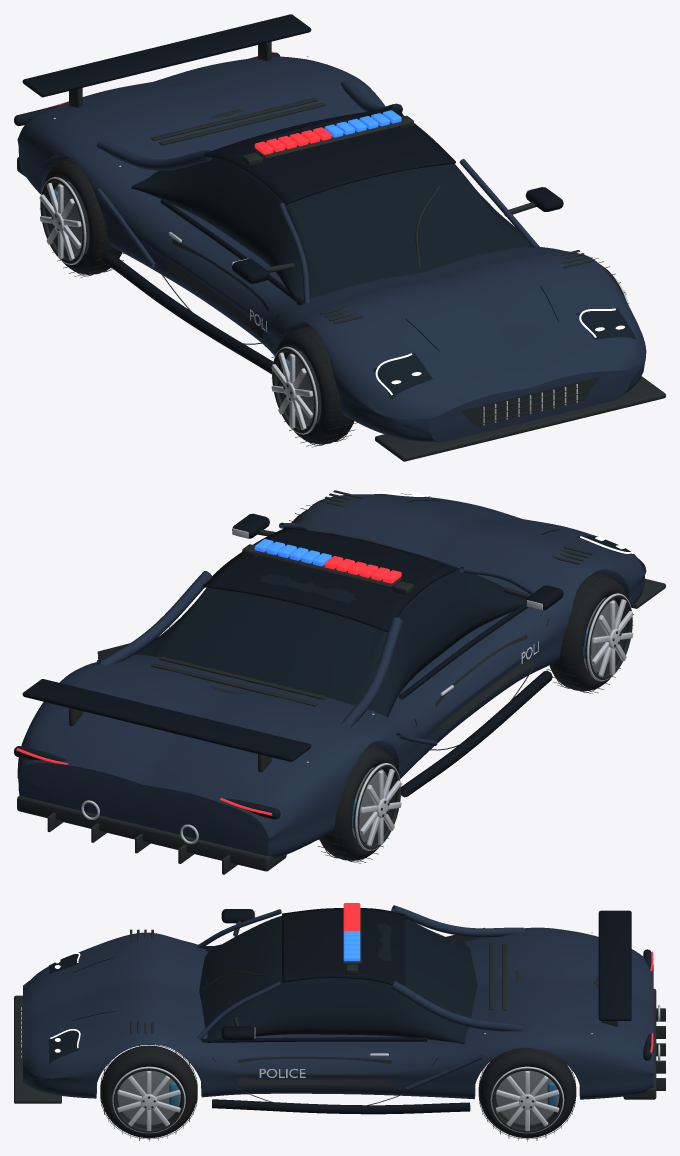
The model's file is florida-interceptor-reflective.glb.
3 views of the same model, one above another, from view 1: azimuth 30°, elevation 25°; view 2: azimuth 150°, elevation 25°; view 3: azimuth 270°, elevation 25° (orthographic). The views are drawn at different scales.
Visible parts, largest first — view 1: BodyLean__Midnight_blue_metallic_lacquer, BodyLean__Deep_blue_automotive_glass, BodyLean__Obsidian_metallic_paint, BodyLean__Carbon_satin, Wheel_FR__Tire_rubber, Wheel_RR__Tire_rubber, Wheel_FR__Polished_forged_aluminium, Wheel_RR__Polished_forged_aluminium, Wheel_FR__Carbon_satin, Wheel_RR__Carbon_satin, BodyLean__Police_red_optical_lens, BodyLean__Police_blue_optical_lens (+2 smaller); view 2: BodyLean__Midnight_blue_metallic_lacquer, BodyLean__Deep_blue_automotive_glass, BodyLean__Obsidian_metallic_paint, BodyLean__Carbon_satin, Wheel_FR__Tire_rubber, Wheel_RR__Tire_rubber, Wheel_FR__Polished_forged_aluminium, Wheel_RR__Polished_forged_aluminium, BodyLean__Police_red_optical_lens, Wheel_FR__Carbon_satin, Wheel_RR__Carbon_satin, BodyLean__Police_blue_optical_lens (+3 smaller); view 3: BodyLean__Midnight_blue_metallic_lacquer, BodyLean__Deep_blue_automotive_glass, BodyLean__Obsidian_metallic_paint, BodyLean__Carbon_satin, Wheel_FL__Tire_rubber, Wheel_RL__Tire_rubber, Wheel_FL__Polished_forged_aluminium, Wheel_RL__Polished_forged_aluminium, Wheel_FL__Brake_steel, Wheel_RL__Brake_steel, Wheel_FL__Carbon_satin, Wheel_RL__Carbon_satin (+2 smaller).
Part boxes in pixels (box(x1,y1,x2,y2)): BodyLean__Midnight_blue_metallic_lacquer: box(17, 56, 646, 442); BodyLean__Deep_blue_automotive_glass: box(14, 52, 636, 399); BodyLean__Obsidian_metallic_paint: box(22, 14, 563, 374); BodyLean__Carbon_satin: box(17, 41, 665, 461); Wheel_FR__Tire_rubber: box(275, 325, 354, 445); Wheel_RR__Tire_rubber: box(43, 158, 122, 276); Wheel_FR__Polished_forged_aluminium: box(271, 346, 317, 434); Wheel_RR__Polished_forged_aluminium: box(40, 177, 86, 264); Wheel_FR__Carbon_satin: box(270, 326, 357, 447); Wheel_RR__Carbon_satin: box(39, 158, 123, 277); BodyLean__Police_red_optical_lens: box(16, 51, 331, 154); BodyLean__Police_blue_optical_lens: box(324, 110, 401, 137); BodyLean__Midnight_blue_metallic_lacquer: box(17, 494, 646, 857); BodyLean__Deep_blue_automotive_glass: box(14, 493, 635, 819); BodyLean__Obsidian_metallic_paint: box(22, 500, 563, 797); BodyLean__Carbon_satin: box(17, 490, 665, 874); Wheel_FR__Tire_rubber: box(549, 572, 629, 692); Wheel_RR__Tire_rubber: box(319, 744, 397, 862); Wheel_FR__Polished_forged_aluminium: box(586, 593, 633, 681); Wheel_RR__Polished_forged_aluminium: box(355, 763, 401, 850); BodyLean__Police_red_optical_lens: box(16, 556, 401, 815); Wheel_FR__Carbon_satin: box(546, 573, 633, 693); Wheel_RR__Carbon_satin: box(317, 744, 401, 863); BodyLean__Police_blue_optical_lens: box(254, 539, 331, 566); BodyLean__Midnight_blue_metallic_lacquer: box(23, 905, 653, 1099); BodyLean__Deep_blue_automotive_glass: box(49, 916, 651, 1063); BodyLean__Obsidian_metallic_paint: box(72, 908, 631, 1114); BodyLean__Carbon_satin: box(14, 908, 665, 1105); Wheel_FL__Tire_rubber: box(100, 1044, 197, 1139); Wheel_RL__Tire_rubber: box(478, 1048, 576, 1139); Wheel_FL__Polished_forged_aluminium: box(112, 1066, 185, 1133); Wheel_RL__Polished_forged_aluminium: box(490, 1066, 564, 1133); Wheel_FL__Brake_steel: box(117, 1070, 180, 1125); Wheel_RL__Brake_steel: box(495, 1070, 559, 1125); Wheel_FL__Carbon_satin: box(101, 1045, 197, 1141); Wheel_RL__Carbon_satin: box(479, 1048, 575, 1141).
Bounding box in the file's own units: 2.27 × 1.22 × 4.76.
